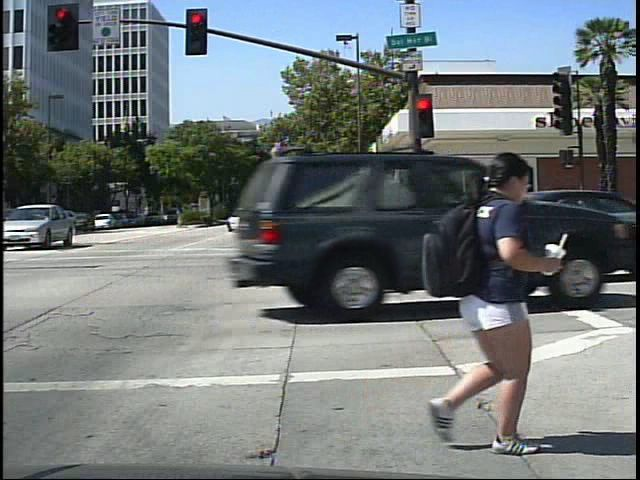person: (394, 130, 570, 458)
